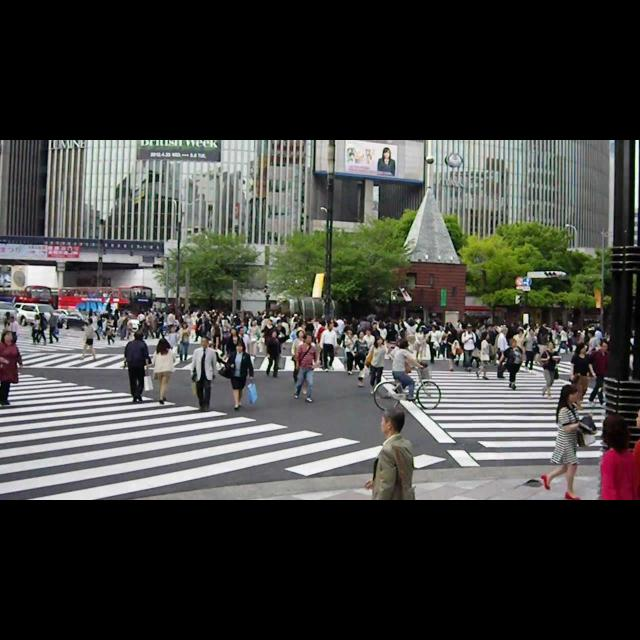head: (380, 408, 406, 434), (604, 418, 628, 446), (561, 384, 579, 404), (2, 330, 14, 342), (133, 330, 145, 340), (399, 340, 409, 350), (303, 334, 313, 344), (202, 336, 210, 348), (399, 340, 408, 350), (600, 341, 608, 352), (236, 342, 244, 353), (580, 343, 588, 353), (160, 339, 168, 349), (358, 331, 366, 341), (548, 342, 556, 350), (510, 340, 518, 348), (483, 332, 491, 340), (376, 336, 384, 344), (270, 331, 278, 339), (305, 334, 313, 342), (327, 322, 335, 330), (348, 328, 356, 336), (501, 327, 509, 335), (588, 330, 596, 338), (365, 328, 373, 336), (239, 328, 245, 337), (467, 324, 473, 332), (231, 328, 237, 336), (298, 330, 304, 338), (529, 328, 535, 336), (379, 322, 385, 330), (5, 312, 11, 318), (9, 316, 15, 322), (87, 319, 93, 325), (182, 323, 188, 329), (176, 315, 182, 321), (268, 320, 274, 326), (277, 320, 283, 326), (432, 326, 438, 332), (518, 329, 524, 335), (372, 323, 378, 329), (321, 321, 327, 327), (346, 326, 352, 332), (39, 313, 43, 319), (252, 320, 256, 326), (36, 316, 40, 320), (50, 311, 54, 315), (92, 313, 96, 317), (109, 316, 113, 320), (159, 312, 163, 316), (170, 310, 174, 314), (172, 328, 176, 332), (561, 326, 565, 330), (418, 327, 422, 331), (115, 310, 119, 314), (596, 328, 600, 332)
person: (219, 340, 259, 412), (189, 336, 219, 412), (123, 329, 153, 405), (391, 339, 425, 401), (291, 333, 319, 403), (358, 336, 390, 396), (0, 330, 24, 410), (570, 342, 596, 410), (151, 337, 177, 405), (590, 339, 612, 409), (538, 340, 562, 400), (364, 335, 388, 395), (297, 332, 317, 396), (351, 329, 371, 387), (388, 339, 410, 391), (504, 338, 524, 390), (318, 322, 338, 372), (226, 326, 246, 374), (476, 331, 494, 381), (460, 323, 478, 373), (265, 329, 283, 379), (291, 329, 307, 385), (494, 326, 510, 378), (79, 317, 97, 363), (235, 325, 253, 371), (344, 327, 360, 375), (338, 324, 354, 368), (175, 322, 191, 364), (246, 319, 262, 359), (524, 327, 538, 371), (362, 328, 376, 372), (4, 314, 20, 350), (262, 319, 278, 355), (316, 320, 328, 368), (427, 324, 441, 364), (512, 328, 526, 368), (586, 330, 600, 370), (165, 326, 179, 364), (374, 322, 388, 358), (85, 311, 101, 341), (414, 325, 426, 365), (368, 322, 380, 362), (274, 318, 286, 354), (36, 313, 48, 347), (47, 311, 59, 345), (30, 314, 42, 346), (105, 314, 117, 346), (2, 311, 14, 341), (175, 314, 187, 344), (556, 326, 568, 354), (155, 310, 165, 340), (167, 310, 177, 338), (595, 328, 605, 354), (113, 309, 121, 335)
